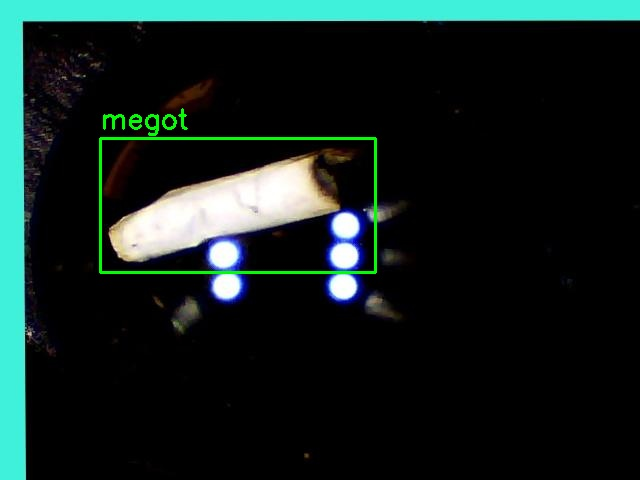megot: (100, 138, 375, 272)
